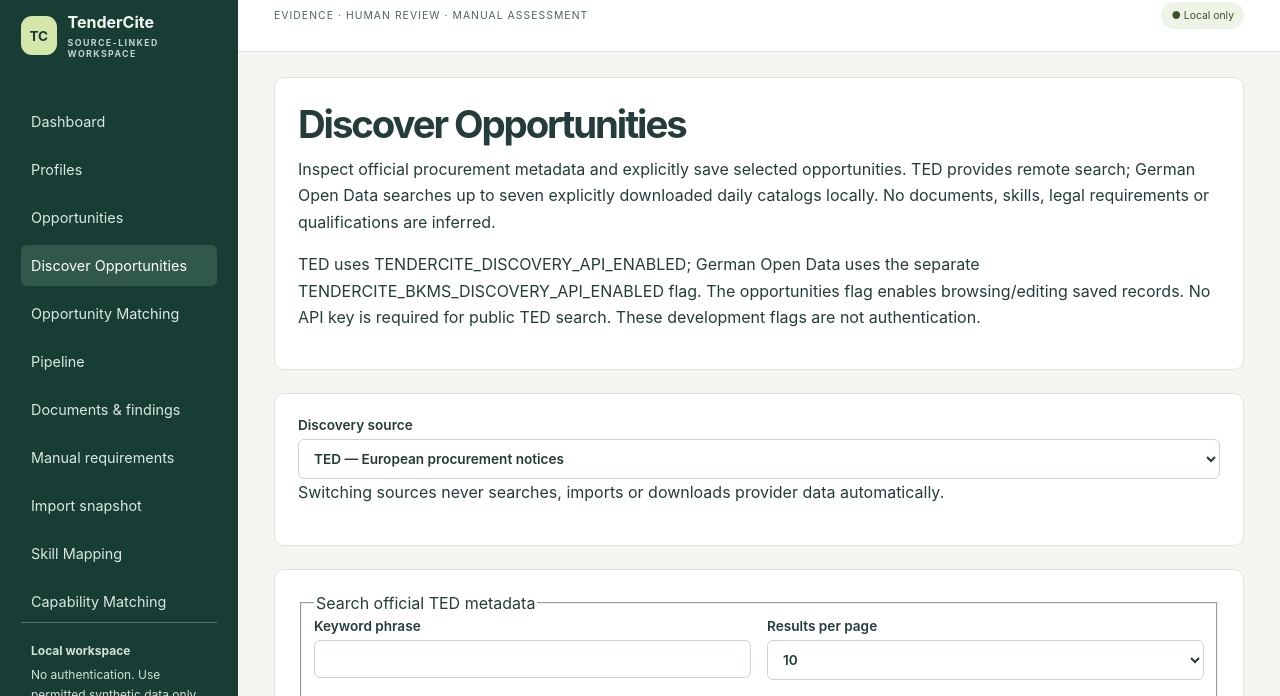
removing a day is explicit and refreshes coverage without a provider download
Step 1. Select "German Bekanntmachungsservice — public procurement" in the dropdown labelled "Discovery source" → (759, 459), box [298,439,1220,479]
(page scrolled)
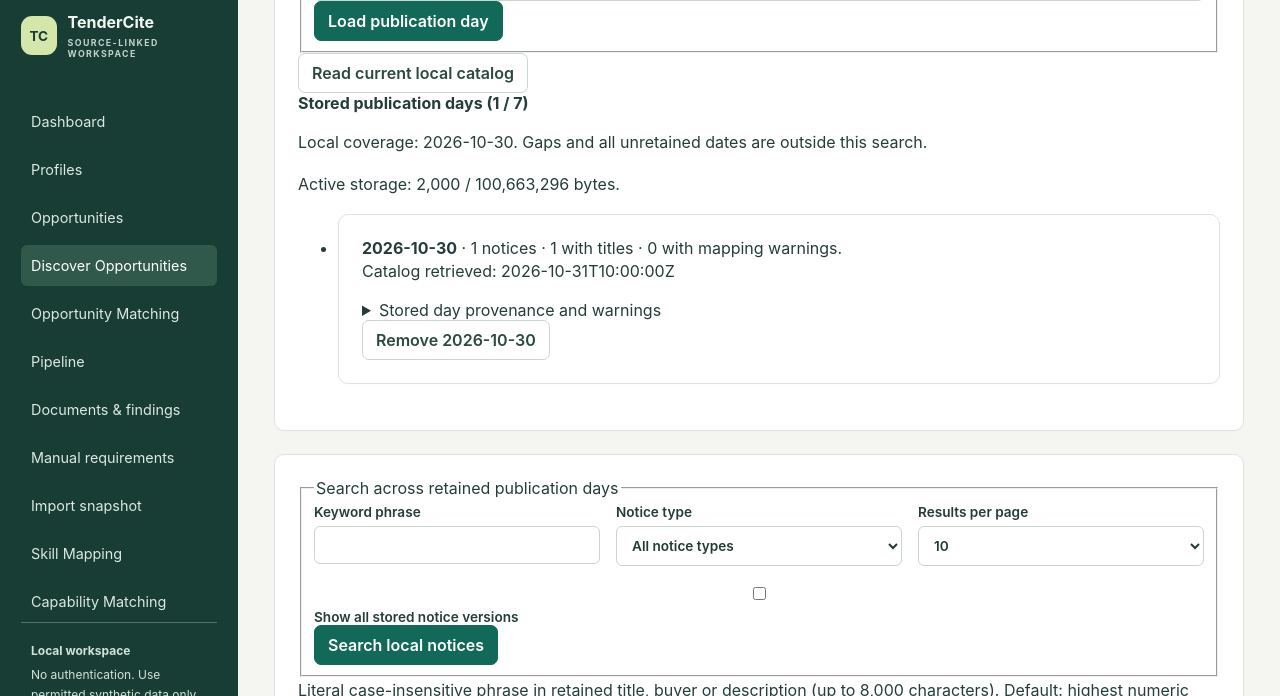
Step 2. Click the button "Remove 2026-10-30" → click(456, 340), box [362,320,550,360]
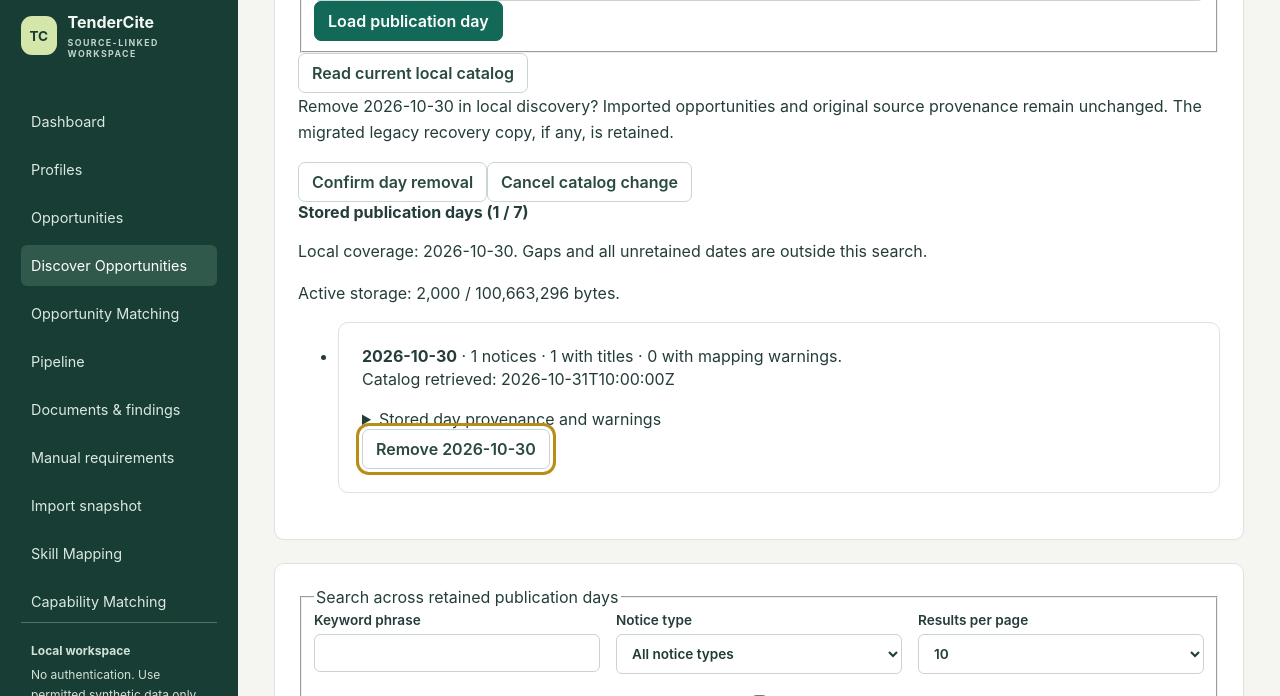
Expected: the dialog named "Confirm catalog change" shows "Imported opportunities", [298,96,1202,142]
Step 3. Click the button "Confirm day removal" → click(393, 182), box [298,162,487,202]
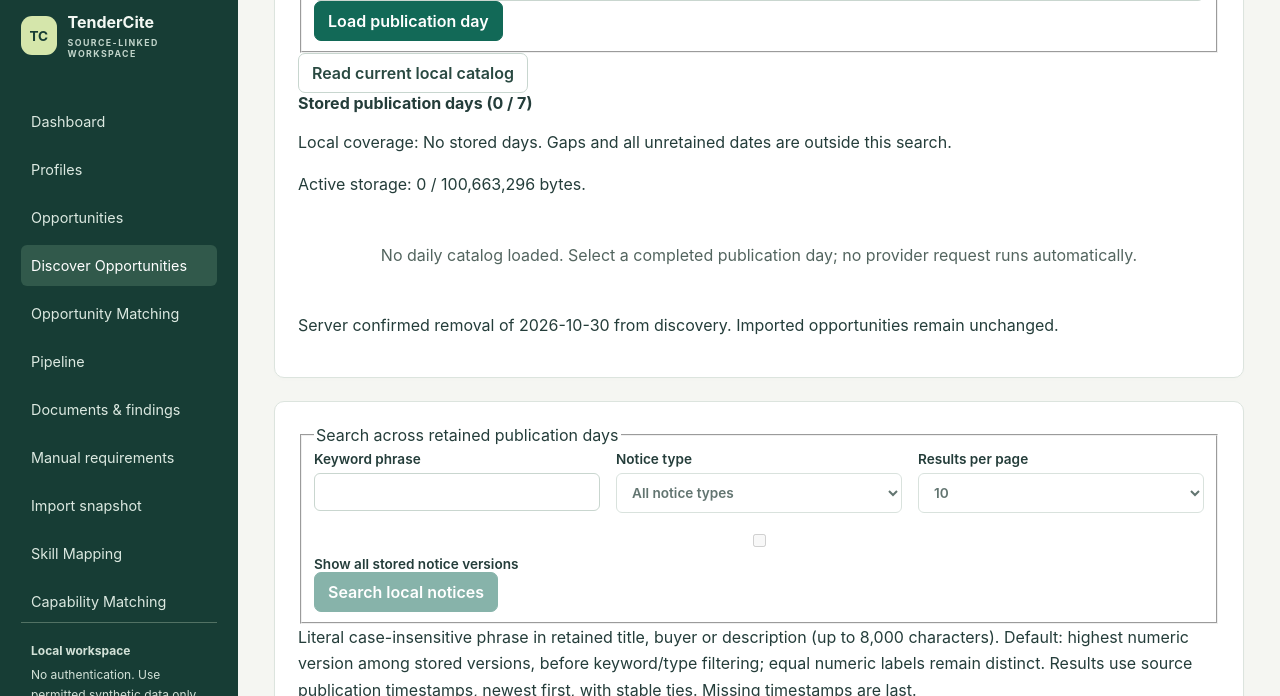
Expected: the button "Search local notices" is disabled, [314,572,498,612]
Expected: the text "Server confirmed removal" is shown, [298,315,1059,335]
Expected: the text "No stored days" is shown, [423,132,538,152]
